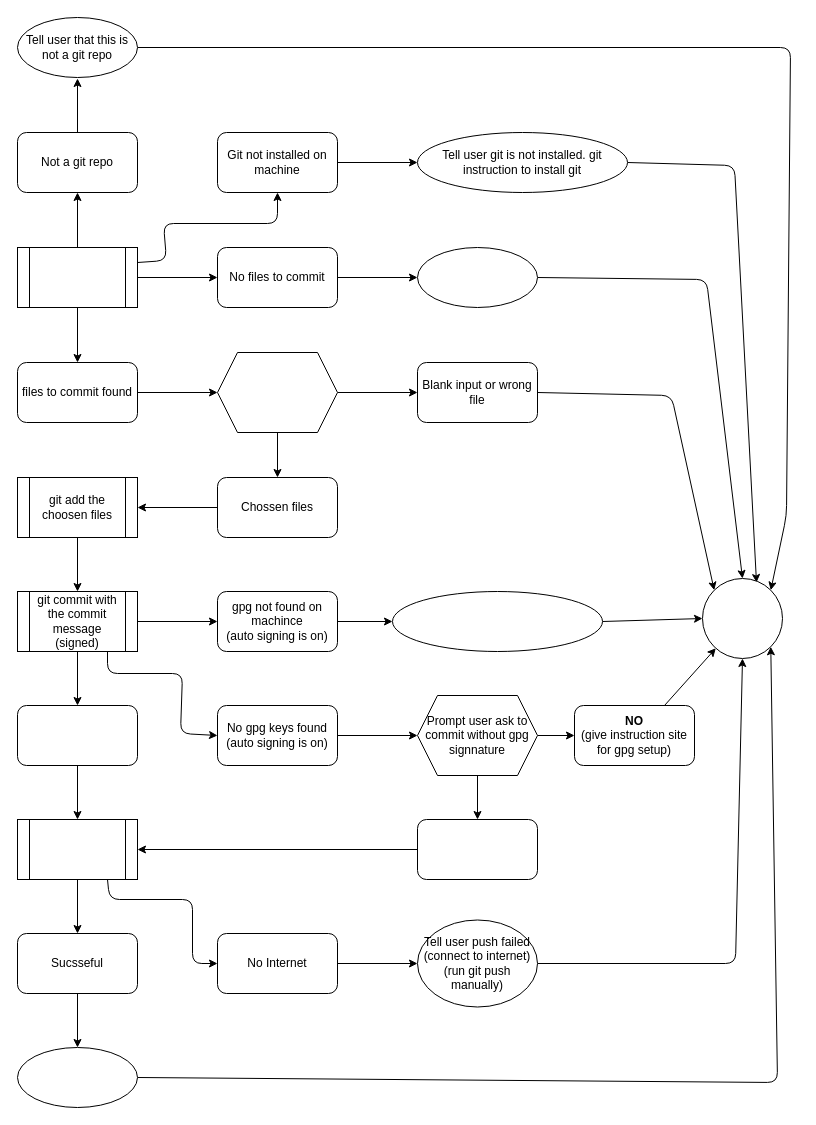
This 816x1125 diagram has some shape labels left out. The centre of each missing label's shape, as x and y in pixels:
"(START) Check files to commit" belongs at (x=77, y=277).
"commit successful" belongs at (x=77, y=735).
"Exit Program" belongs at (x=742, y=618).
"git push to remote repo" belongs at (x=77, y=849).
"Prompt user to choose files to commit" belongs at (x=277, y=392).
"Tell user files successfully pushed to remote repo" belongs at (x=77, y=1077).
"Tell user gpg is not installed. give instruction to install gpg" belongs at (x=497, y=621).
"Tell user there is nothing to comiit" belongs at (x=477, y=277).
"YES" belongs at (x=477, y=849).
